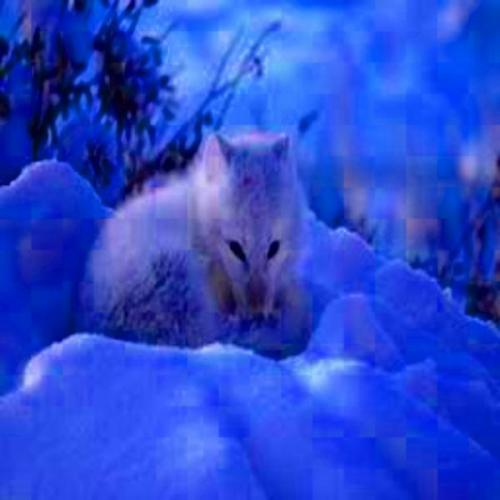arctic_fox-endangered: (80, 133, 312, 350)
